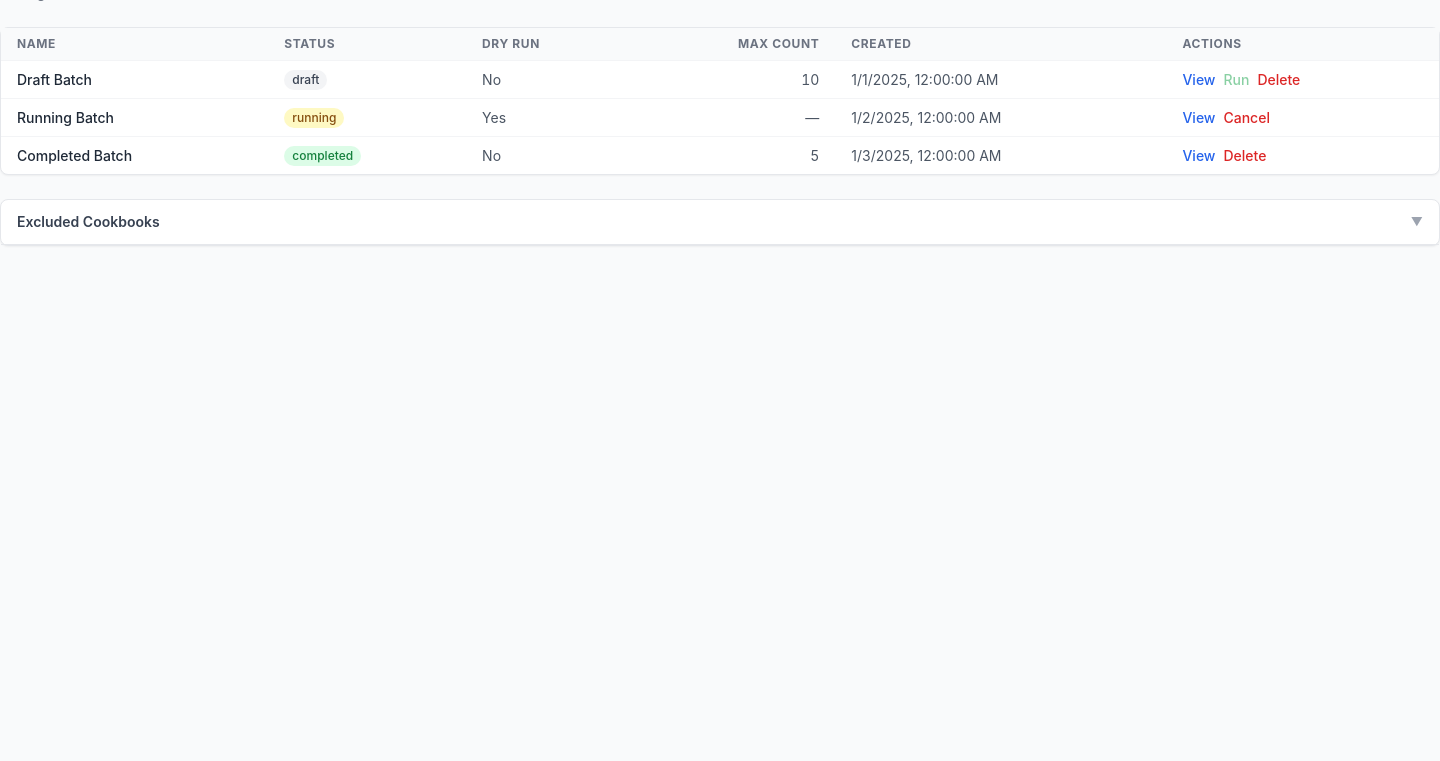
Test: KitchenBatchesPage › refreshes progress on a batch_progress event without waiting for the poll
Expected: the text "Running Batch" is shown, [1,98,268,136]
Click the button "View" in the row of "Running Batch".
click(1199, 118)  # box [1182,108,1216,128]
(page scrolled)
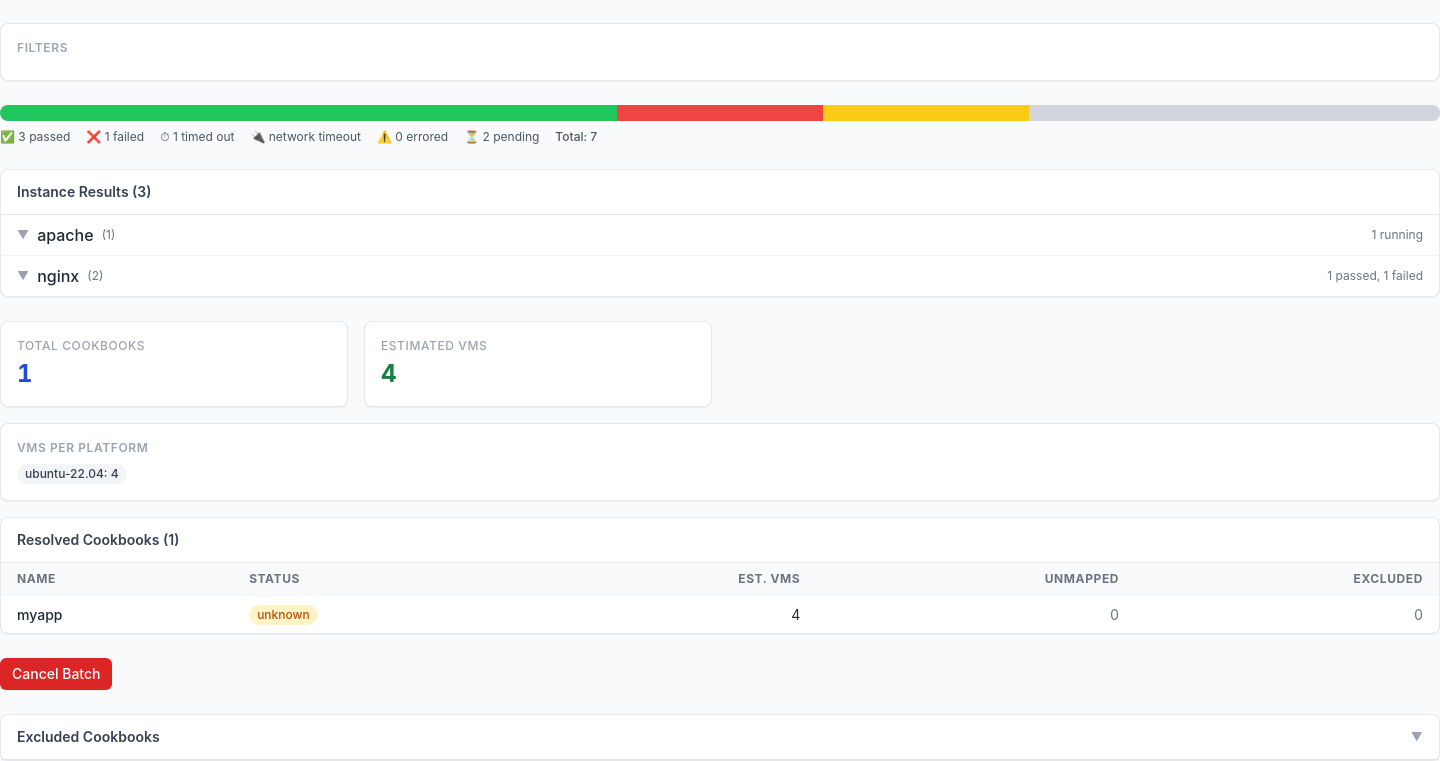
Now the button "Cancel Batch" is shown, box [0,658,112,690]
